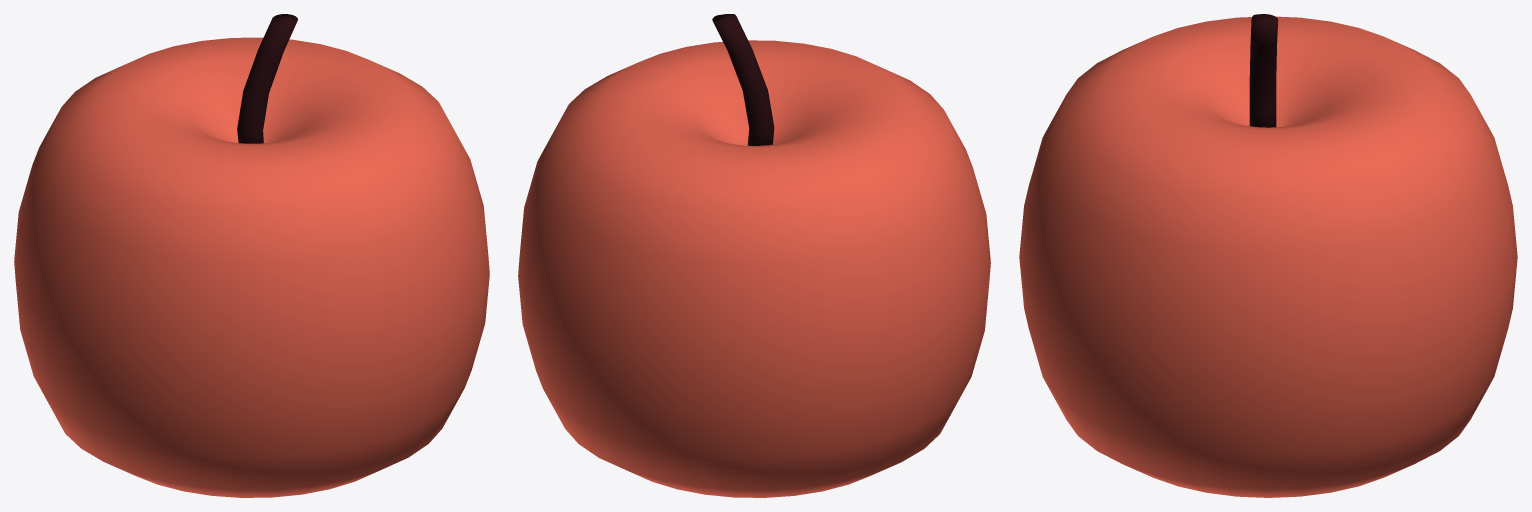
Rendered from Fruta.fbx.
3 renders of one model, left to right at view 1: azimuth 30°, elevation 25°; view 2: azimuth 150°, elevation 25°; view 3: azimuth 270°, elevation 25°, orthographic. The views are drawn at different scales.
Parts seen in each view (by area): view 1: Cylinder; view 2: Cylinder; view 3: Cylinder.
Part boxes in pixels (box(x1,y1,x2,y2)): Cylinder: box(14, 14, 489, 497); Cylinder: box(518, 14, 990, 497); Cylinder: box(1019, 14, 1517, 497).
Size of the model in its own units: 289 by 275 by 289.
